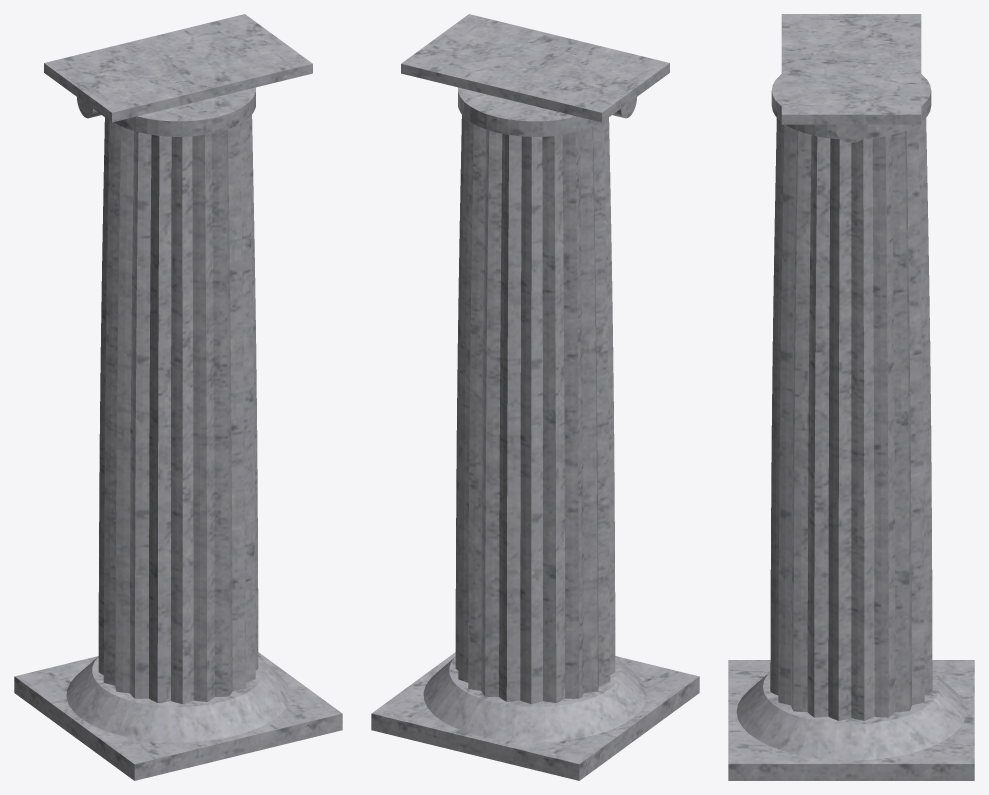
File: column.glb
3 views of the same model, side by side, from view 1: azimuth 30°, elevation 25°; view 2: azimuth 150°, elevation 25°; view 3: azimuth 270°, elevation 25° (orthographic). The views are drawn at different scales.
Visible parts, largest first — view 1: column-col; view 2: column-col; view 3: column-col.
Part boxes in pixels (x1=…): column-col: x1=14, y1=14, x2=342, y2=780; column-col: x1=371, y1=14, x2=699, y2=780; column-col: x1=728, y1=14, x2=974, y2=780.
Size of the model in its own units: 1.08 by 3.22 by 1.08.
1 material, 1 textured.
